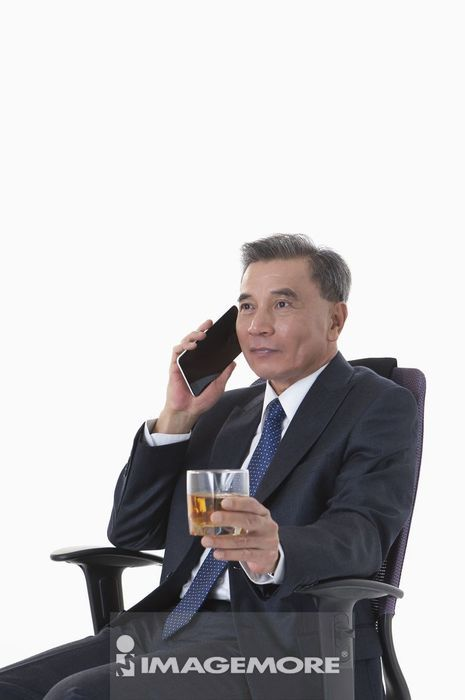phone: (163, 309, 254, 387)
talk: (150, 280, 321, 413)
